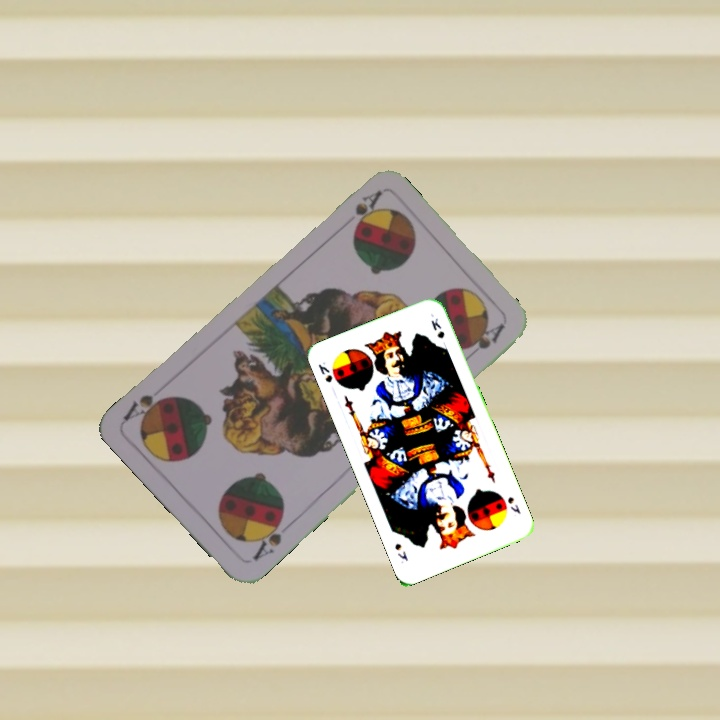SA: (248, 512, 287, 563), (350, 186, 384, 229)
SK: (314, 358, 335, 385), (503, 492, 523, 516)
